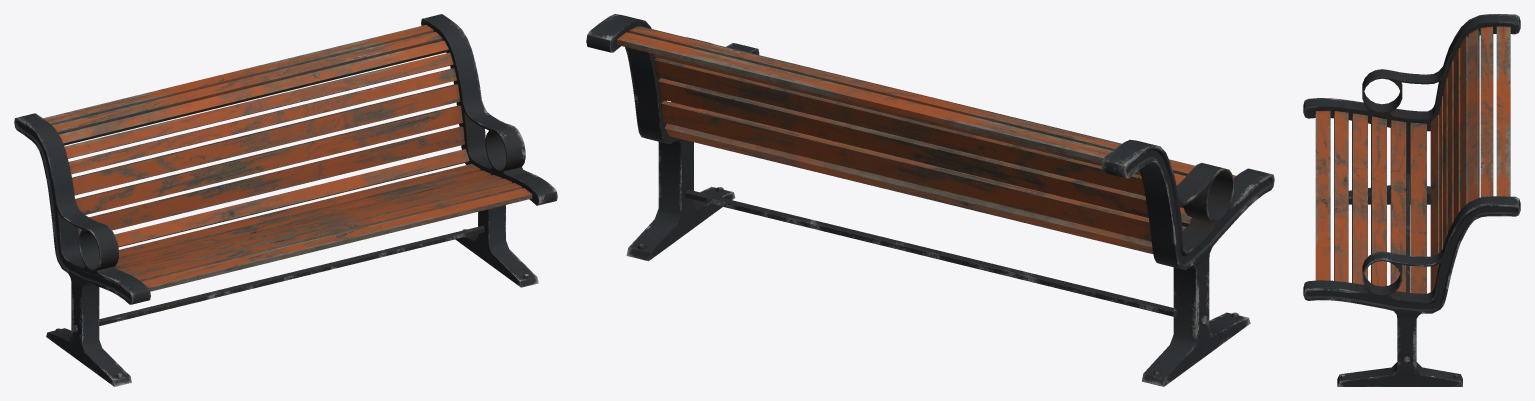
Rendered from park-bench.glb.
The picture shows the model from 3 angles, left to right: view 1: azimuth 30°, elevation 25°; view 2: azimuth 150°, elevation 25°; view 3: azimuth 270°, elevation 25°; orthographic projection. The views are drawn at different scales.
Parts seen in each view (by area): view 1: Bench_Bench_0; view 2: Bench_Bench_0; view 3: Bench_Bench_0.
Part boxes in pixels (left/top/right/bottom): Bench_Bench_0: left=14, top=14, right=557, bottom=386; Bench_Bench_0: left=586, top=14, right=1274, bottom=386; Bench_Bench_0: left=1303, top=14, right=1520, bottom=386.
Size of the model in its own units: 1.85 by 0.82 by 0.8839.
Materials: 1 (1 with a texture image).
